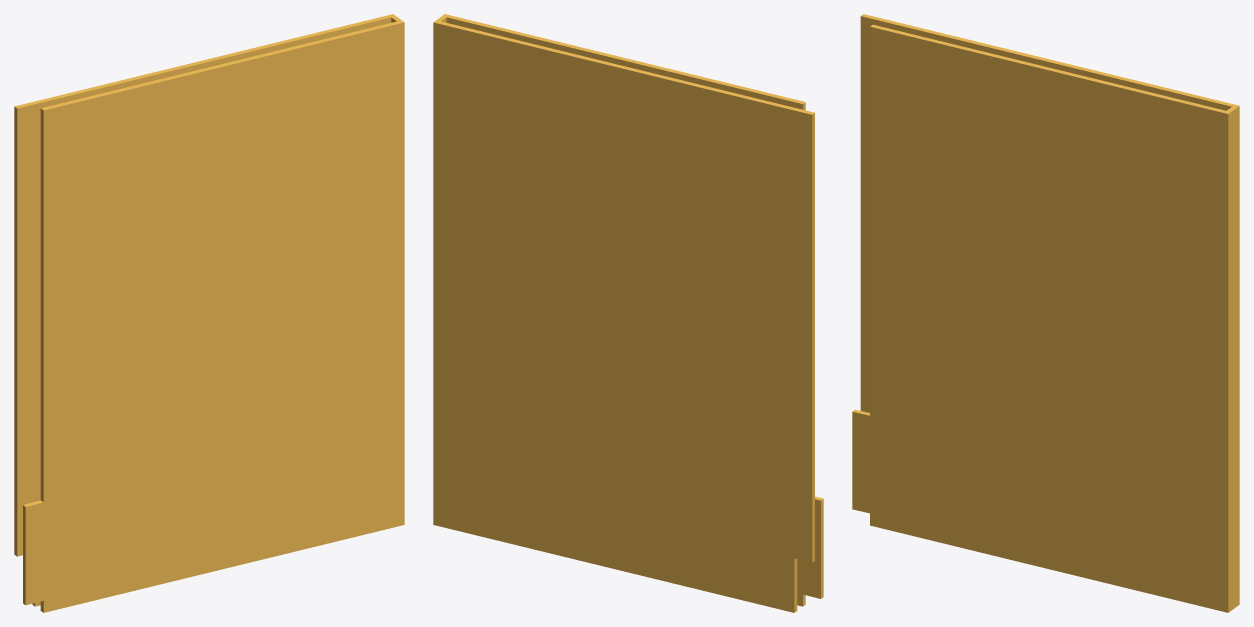
The model's file is FolderEmpty.fbx.
The picture shows the model from 3 angles, left to right: view 1: azimuth 30°, elevation 25°; view 2: azimuth 150°, elevation 25°; view 3: azimuth 330°, elevation 25°; orthographic projection.
Parts seen in each view (by area): view 1: FolderEmpty000; view 2: FolderEmpty000; view 3: FolderEmpty000.
Boxes of the visible parts, x1,y1,x2,y2 form: FolderEmpty000: (14,14,404,612); FolderEmpty000: (433,14,823,612); FolderEmpty000: (852,14,1239,612).
Size of the model in its own units: 20183 by 25576 by 1062.
1 material, 1 textured.
